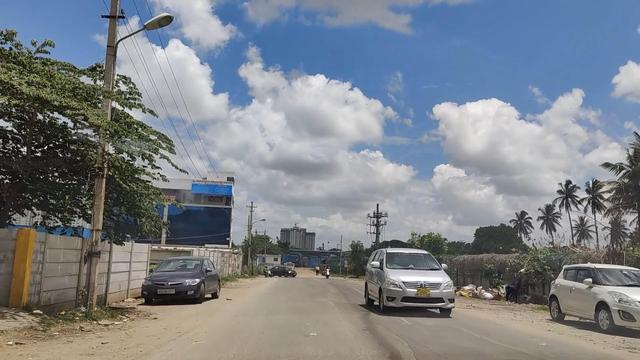LMV: (361, 243, 461, 325), (555, 255, 640, 337), (141, 249, 222, 307)
UnsurfacedRoad: (379, 323, 430, 360)
